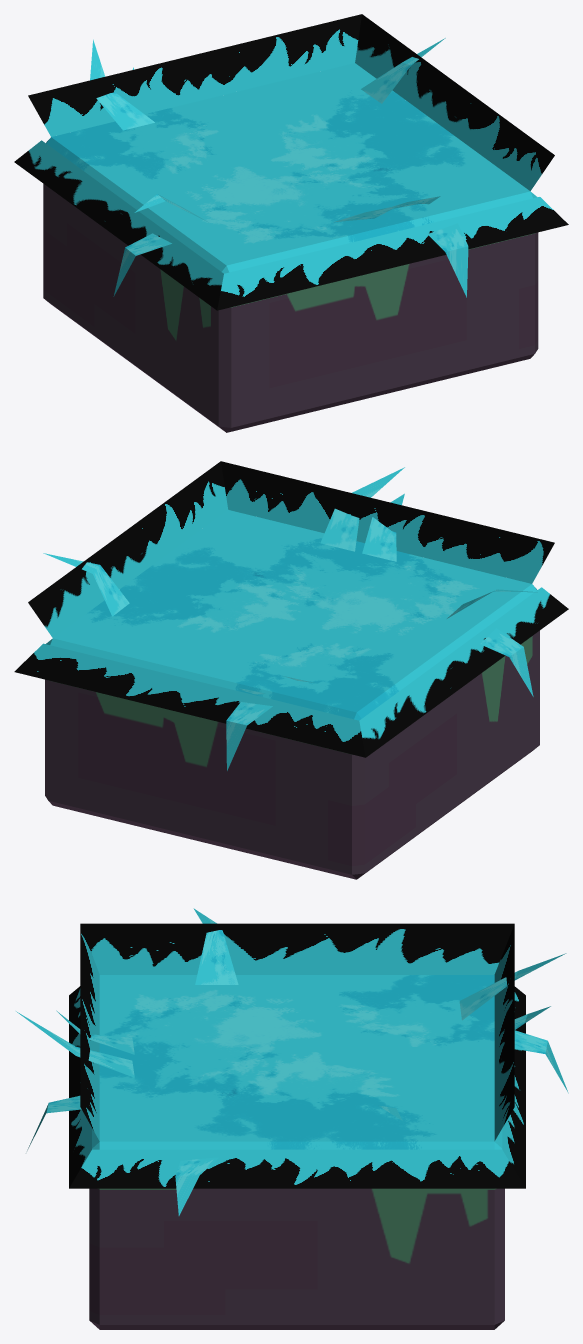
Rendered from tilegrasscyan001.glb.
3 renders of one model, top to bottom at view 1: azimuth 30°, elevation 25°; view 2: azimuth 150°, elevation 25°; view 3: azimuth 270°, elevation 25°, orthographic. The views are drawn at different scales.
Parts seen in each view (by area): view 1: tilegrasscyan001; view 2: tilegrasscyan001; view 3: tilegrasscyan001.
Part boxes in pixels (left/top/right/bottom): tilegrasscyan001: left=14, top=14, right=568, bottom=432; tilegrasscyan001: left=14, top=461, right=568, bottom=879; tilegrasscyan001: left=16, top=908, right=568, bottom=1329.
Bounding box in the file's own units: 1.29 × 0.6672 × 1.34.
2 materials, 2 textured.
